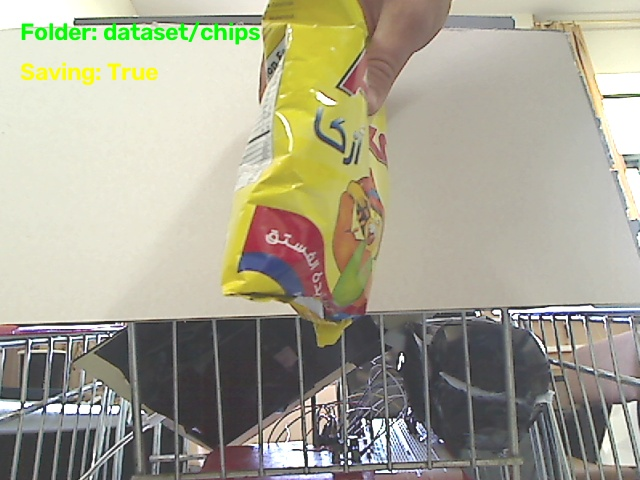chips: (223, 0, 387, 345)
